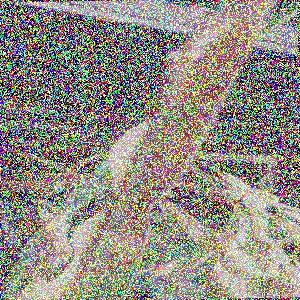Leaf_Blast: (91, 103, 181, 300)
